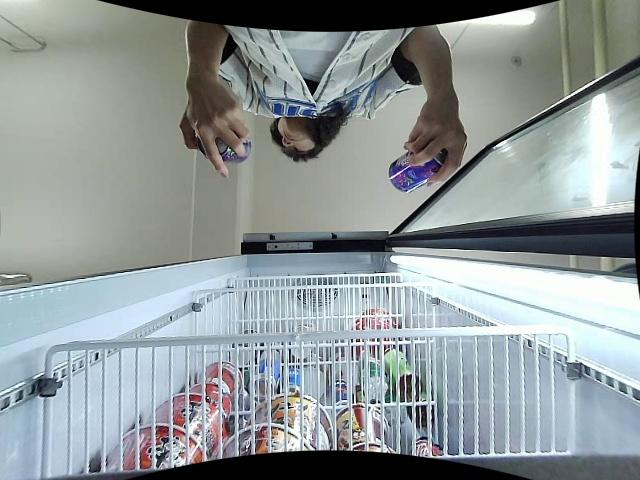00_hand: (178, 74, 250, 179), (403, 102, 468, 188)
14_welchsGrape: (389, 149, 447, 194), (195, 132, 251, 165)
